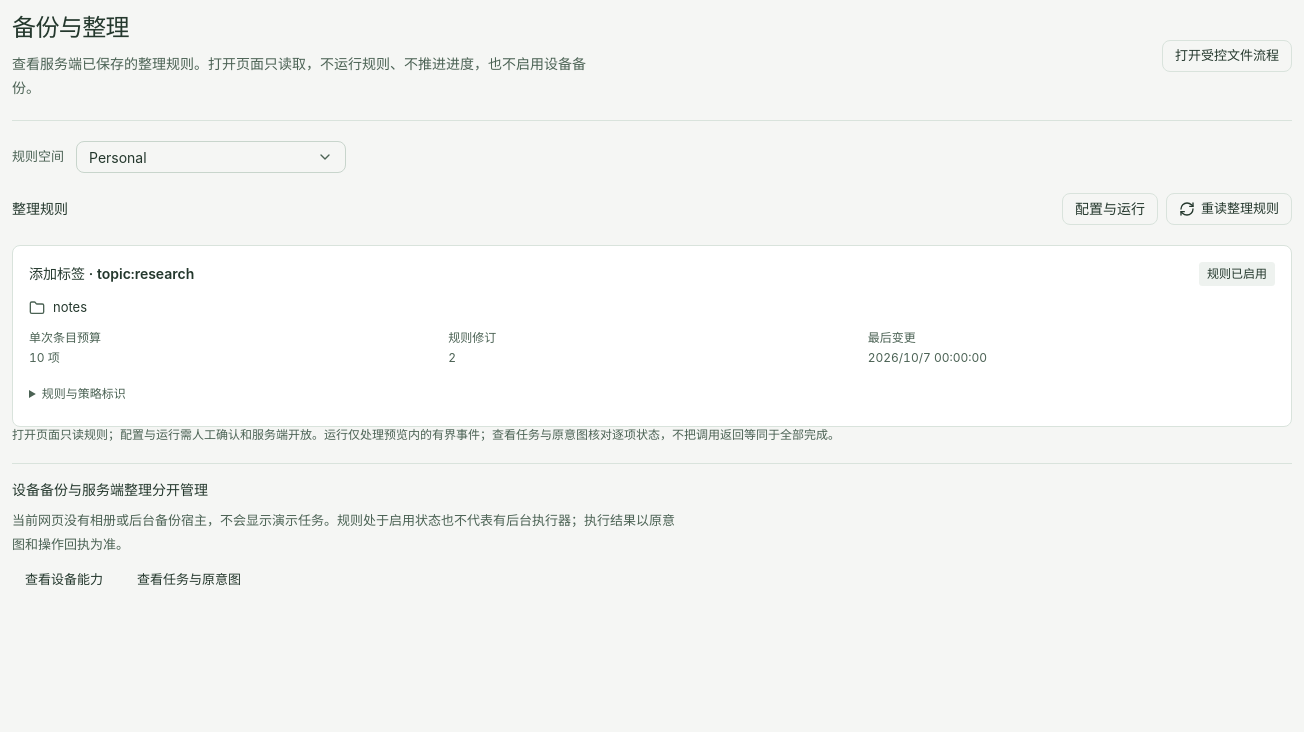
Test: only opens management after explicit capability read (false)
Expected: the heading "添加标签 · topic:research" is shown, top-left (29, 265), bottom-right (194, 282)
What coordinates should you click on to do the following:
click the button "配置与运行"
I would click on:
 (1110, 209)
Its box is top-left (1062, 193), bottom-right (1158, 225).
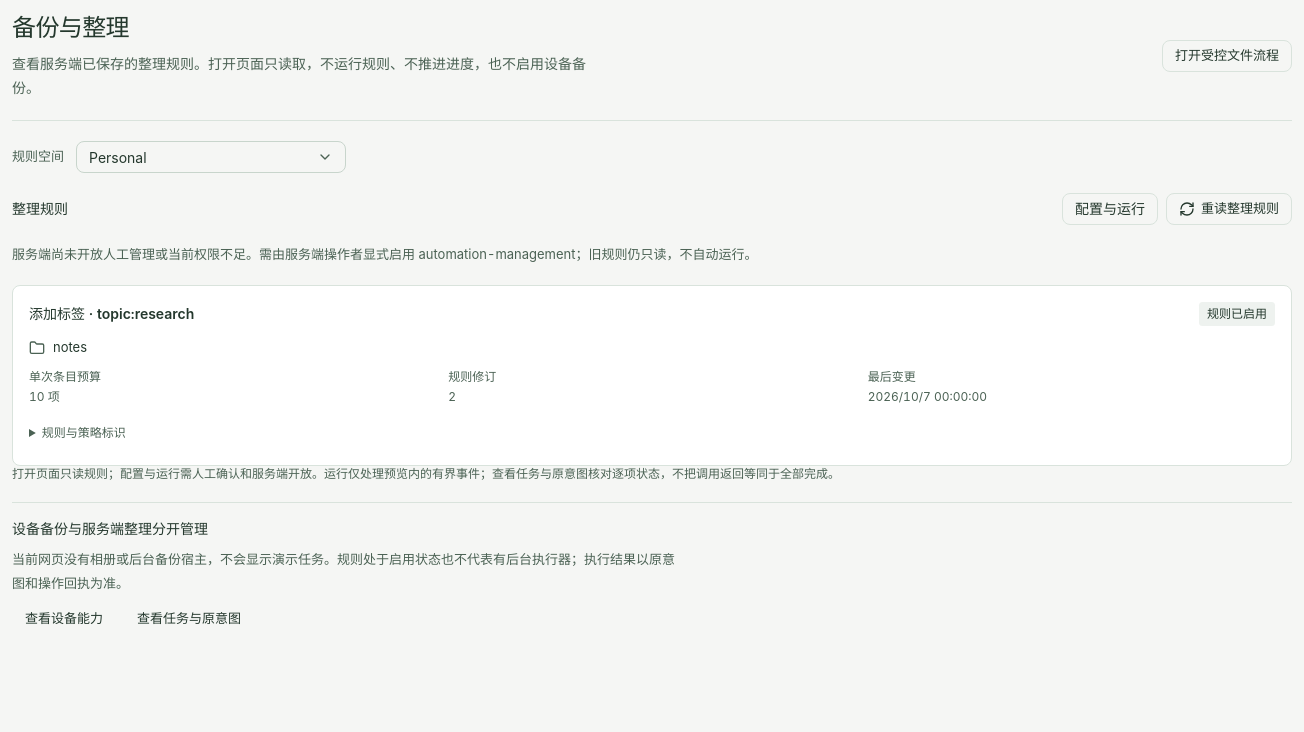
Expected: the text "服务端尚未开放人工管理或当前权限不足。需由服务端操作者显式启用 automation-management；旧规则仍只读，不自动运行。" is shown, top-left (12, 246), bottom-right (758, 262)
